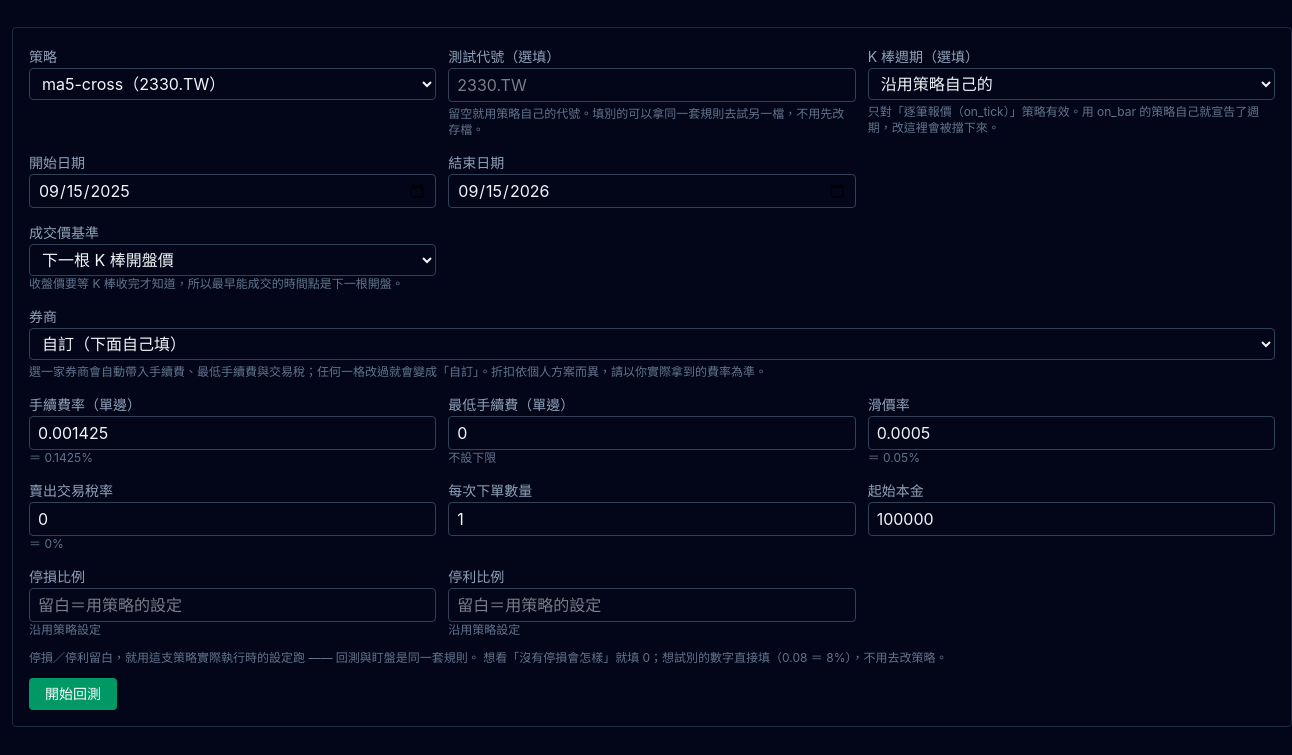
Test: BacktestPage › colours a gain and a loss differently in the headline
Click the button "開始回測" at (73, 694), box left=29, top=678, right=117, bottom=710
(page scrolled)
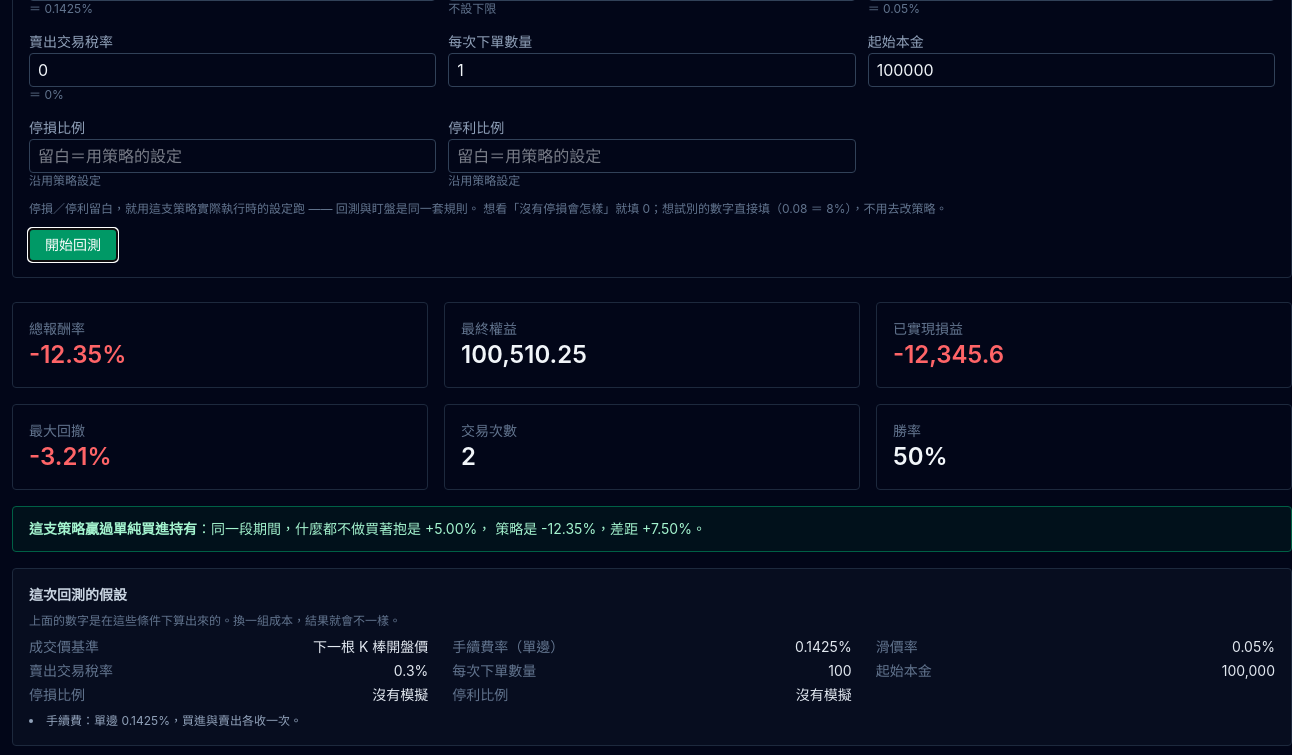
Now the element named "績效總覽" is shown, box left=12, top=302, right=1291, bottom=490
